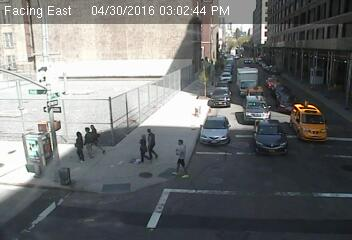neg: (291, 102, 315, 134), (55, 166, 76, 193), (28, 135, 47, 161), (281, 188, 300, 213), (167, 98, 185, 122), (38, 73, 55, 97), (223, 85, 239, 106), (194, 73, 208, 92), (69, 10, 83, 28), (247, 65, 260, 83), (304, 23, 316, 39), (213, 57, 224, 71), (320, 72, 331, 86), (240, 22, 251, 36), (192, 22, 202, 35), (225, 22, 235, 34), (228, 41, 237, 53), (274, 5, 283, 17), (126, 12, 133, 22)
pos: (166, 137, 198, 180), (75, 126, 100, 159), (138, 128, 160, 158), (131, 134, 153, 164), (68, 132, 90, 160), (84, 124, 104, 150)
